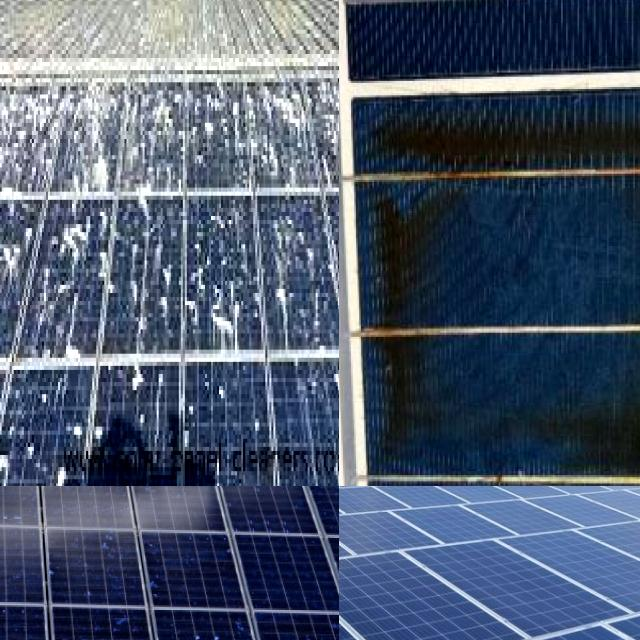bird: (266, 210, 324, 316), (123, 220, 174, 318), (252, 88, 304, 161), (56, 204, 102, 284), (66, 95, 109, 175), (125, 354, 164, 436), (200, 280, 248, 344), (0, 426, 37, 486), (0, 229, 24, 320), (0, 241, 22, 338), (316, 338, 339, 421), (0, 398, 12, 486), (325, 118, 339, 177)
crack: (377, 524, 636, 640), (483, 523, 640, 640), (384, 493, 522, 563), (456, 486, 579, 559), (339, 496, 448, 573), (339, 505, 408, 585), (339, 527, 414, 599), (360, 571, 432, 640), (339, 495, 404, 556), (339, 486, 398, 546), (339, 486, 398, 540), (402, 597, 466, 640), (339, 598, 387, 640)
panel: (51, 486, 232, 611), (0, 486, 76, 618), (242, 486, 339, 582), (0, 486, 24, 637)
shadow: (365, 98, 640, 480)
